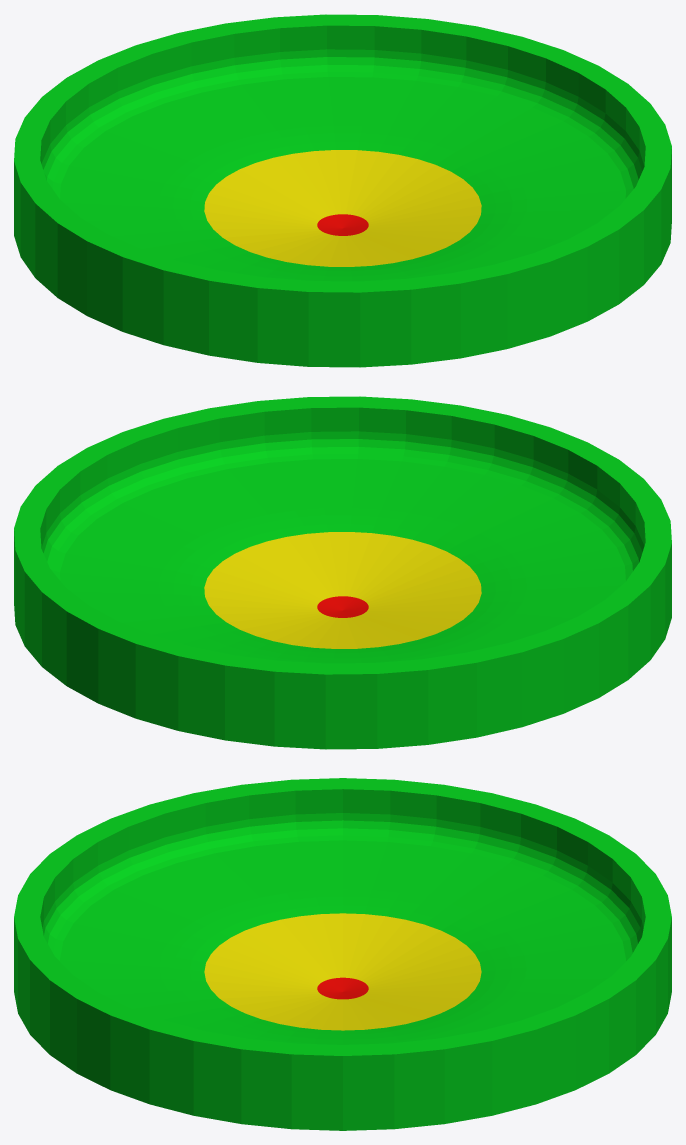
File: Arena.fbx
3 renders of one model, top to bottom at view 1: azimuth 30°, elevation 25°; view 2: azimuth 150°, elevation 25°; view 3: azimuth 270°, elevation 25°, orthographic.
Parts seen in each view (by area): view 1: Circle; view 2: Circle; view 3: Circle.
Boxes of the visible parts, x1,y1,x2,y2 form: Circle: (14,14,671,367); Circle: (14,396,671,749); Circle: (14,778,671,1130).
Bounding box in the file's own units: 4347 × 545 × 4347.
